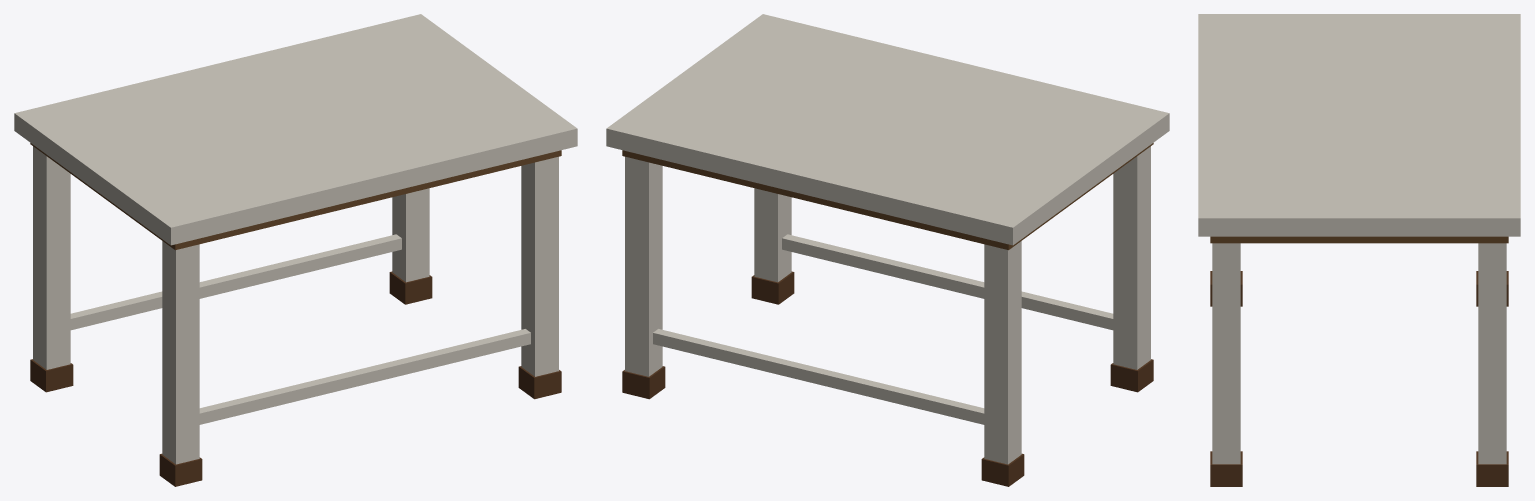
Rendered from table.glb.
3 renders of one model, left to right at view 1: azimuth 30°, elevation 25°; view 2: azimuth 150°, elevation 25°; view 3: azimuth 270°, elevation 25°, orthographic. The views are drawn at different scales.
Visible parts, largest first — view 1: table; view 2: table; view 3: table.
Part boxes in pixels (x1,y1,x2,y2): table: (14,14,577,486); table: (606,14,1169,486); table: (1198,14,1520,486).
Bounding box in the file's own units: 1.2 × 0.75 × 0.8.
